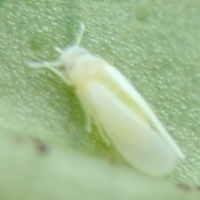insect: (27, 22, 183, 175), (28, 22, 183, 175)
